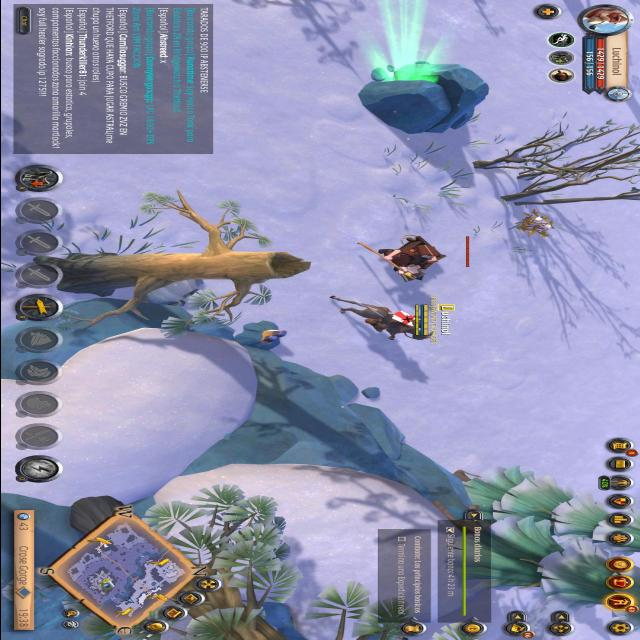piedra_cobre: (225, 315, 298, 355)
